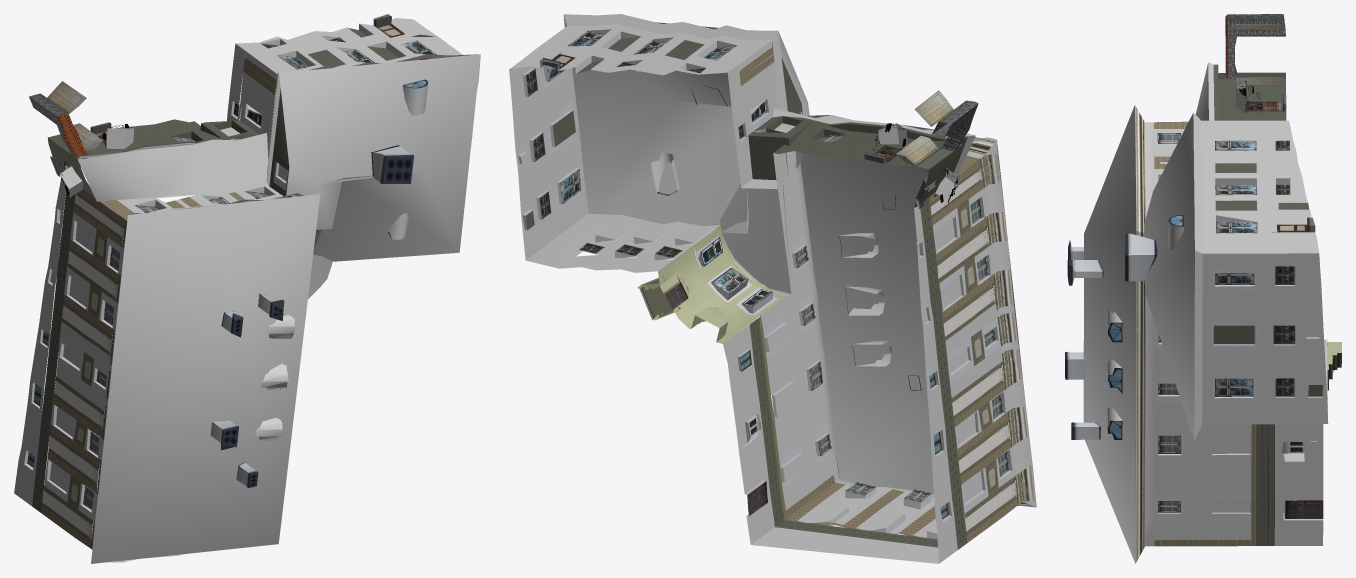
Rendered from Toompea_1_1-origo.obj.
3 renders of one model, left to right at view 1: azimuth 30°, elevation 25°; view 2: azimuth 150°, elevation 25°; view 3: azimuth 270°, elevation 25°, orthographic. The views are drawn at different scales.
Visible parts, largest first — view 1: mesh01; view 2: mesh01; view 3: mesh01.
Boxes of the visible parts, x1,y1,x2,y2 form: mesh01: [14, 14, 480, 563]; mesh01: [509, 14, 1036, 563]; mesh01: [1065, 14, 1341, 563].
Bounding box in the file's own units: 32.94 × 33.5 × 18.05.
